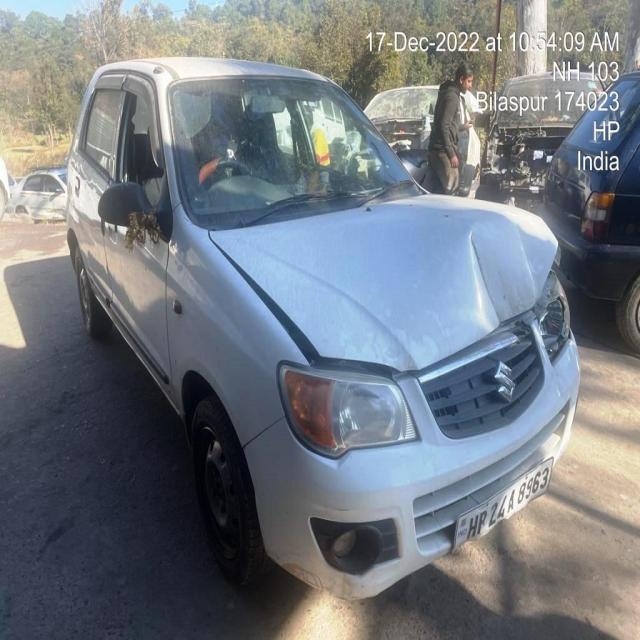damage: (249, 245, 423, 366), (415, 208, 537, 315), (535, 288, 573, 366), (311, 499, 350, 513)
